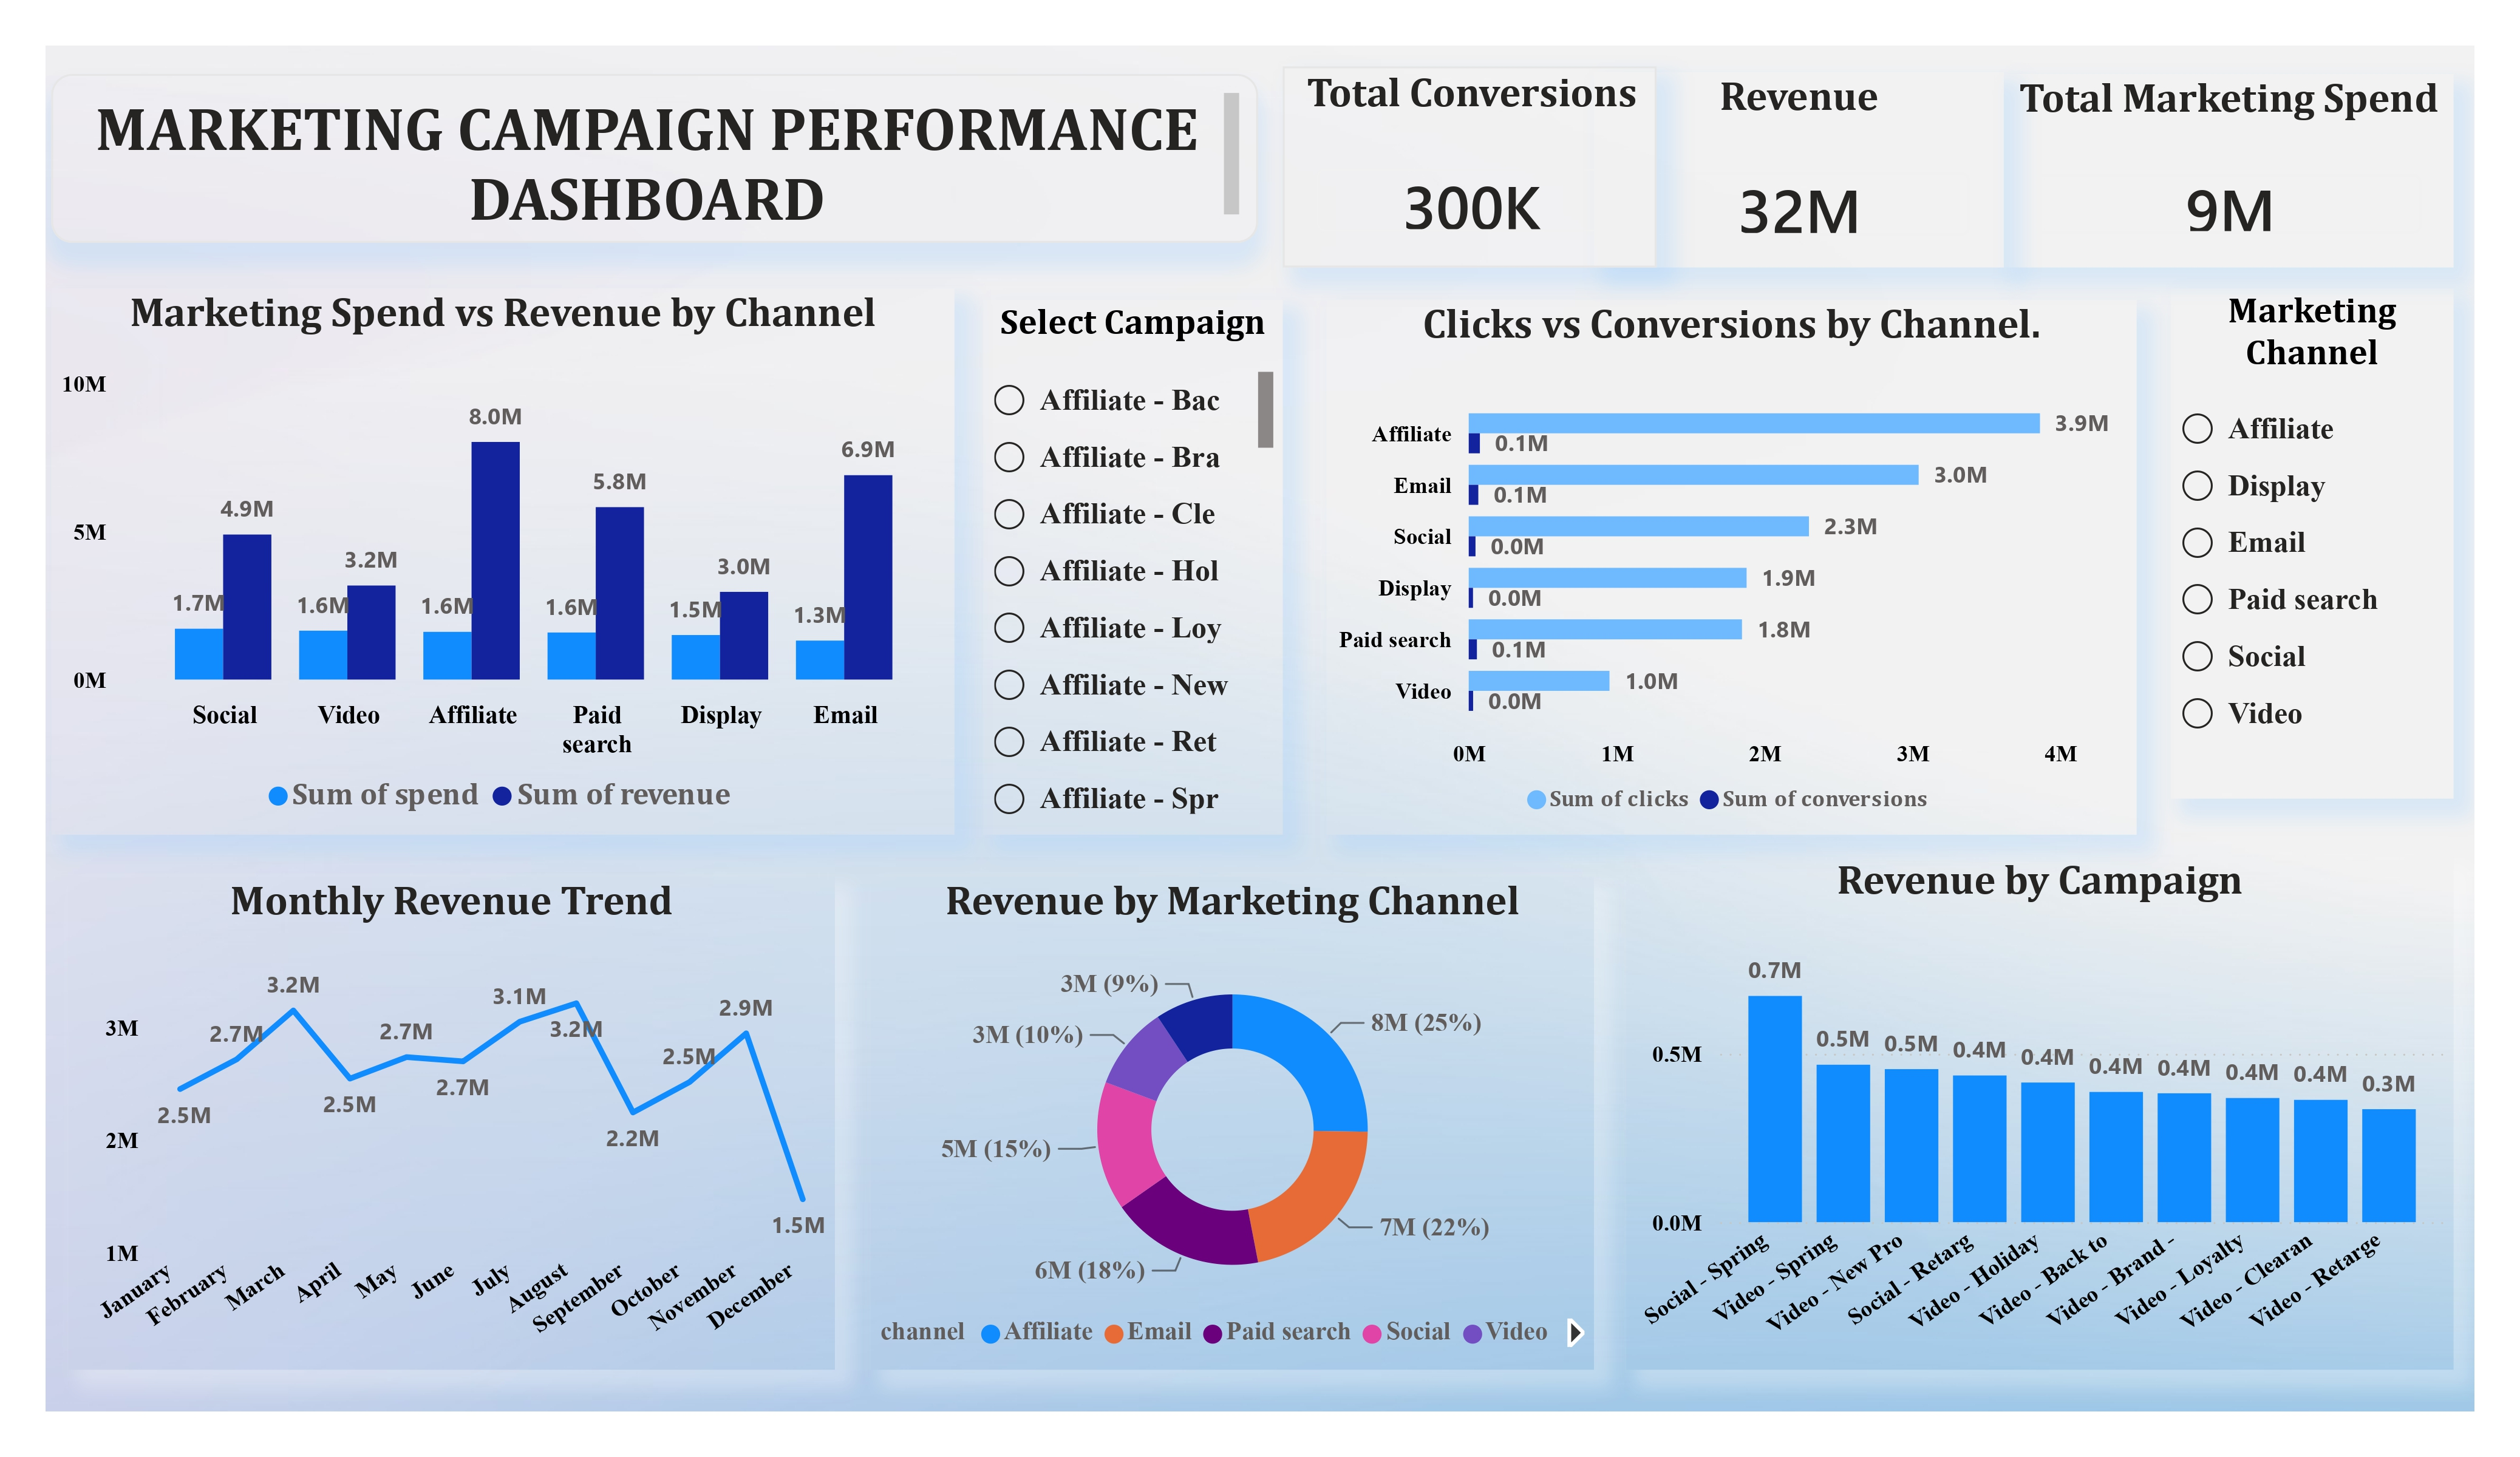

The page's visual inventory and layout, read from the dashboard file:
{"tool":"powerbi","page":{"name":"Page 1","canvas":[1280,720],"ordinal":0},"visuals":[{"type":"cardVisual","title":"Revenue","fields":{"Data":["Sum(Marketing Campaigns.revenue)"]},"box":[816.5,13.7,215.4,102.9],"z":0},{"type":"cardVisual","title":"Total Marketing Spend","fields":{"Data":["Sum(Marketing Campaigns.spend)"]},"box":[1031.9,15.1,237.4,101.5],"z":1000},{"type":"cardVisual","title":"Total Conversions","fields":{"Data":["Sum(Marketing Campaigns.conversions)"]},"box":[651.8,11,197.6,105.7],"z":2000},{"type":"clusteredColumnChart","title":"Revenue by Campaign","fields":{"Y":["Sum(Marketing Campaigns.revenue)"],"Category":["Marketing Campaigns.Short Campaign Name"]},"box":[832.9,426.8,436.4,271.7],"z":3000},{"type":"donutChart","title":"Revenue by Marketing Channel","fields":{"Category":["Marketing Campaigns.channel"],"Y":["Sum(Marketing Campaigns.revenue)"]},"box":[435,437.7,381.5,260.7],"z":4000},{"type":"clusteredBarChart","title":"Clicks vs Conversions by Channel.","fields":{"Category":["Marketing Campaigns.channel"],"Y":["Sum(Marketing Campaigns.clicks)","Sum(Marketing Campaigns.conversions)"]},"box":[675.1,134.5,426.8,281.3],"z":5000},{"type":"lineChart","title":"Monthly Revenue Trend","fields":{"Category":["Marketing Campaigns.start_date.Variation.Date Hierarchy.Month"],"Y":["Sum(Marketing Campaigns.revenue)"]},"box":[12.3,437.7,403.4,260.7],"z":6000},{"type":"clusteredColumnChart","title":"Marketing Spend vs Revenue by Channel","fields":{"Category":["Marketing Campaigns.channel"],"Y":["Sum(Marketing Campaigns.spend)","Sum(Marketing Campaigns.revenue)"]},"box":[2.7,127.6,476.2,288.2],"z":7000},{"type":"listSlicer","title":"Marketing Channel","fields":{"Values":["Marketing Campaigns.channel"]},"box":[1119.7,127.6,149.6,269],"z":8000},{"type":"listSlicer","title":"Select Campaign","fields":{"Values":["Marketing Campaigns.Short Campaign Name"]},"box":[494,134.5,157.8,281.3],"z":9000},{"type":"textbox","box":[2.7,15.1,636.7,89.2],"z":10000}]}

Visuals, with their boxes on the page's 1280x720 design canvas (x1, y1, x2, y2). These are canvas units, not pixel positions in the 2520x1457 screenshot, which may show the page scaled, cropped or inside an application window:
"Revenue" cardVisual: 816/14/1032/117
"Total Marketing Spend" cardVisual: 1032/15/1269/117
"Total Conversions" cardVisual: 652/11/849/117
"Revenue by Campaign" clusteredColumnChart: 833/427/1269/698
"Revenue by Marketing Channel" donutChart: 435/438/816/698
"Clicks vs Conversions by Channel." clusteredBarChart: 675/134/1102/416
"Monthly Revenue Trend" lineChart: 12/438/416/698
"Marketing Spend vs Revenue by Channel" clusteredColumnChart: 3/128/479/416
"Marketing Channel" listSlicer: 1120/128/1269/397
"Select Campaign" listSlicer: 494/134/652/416
textbox: 3/15/639/104
